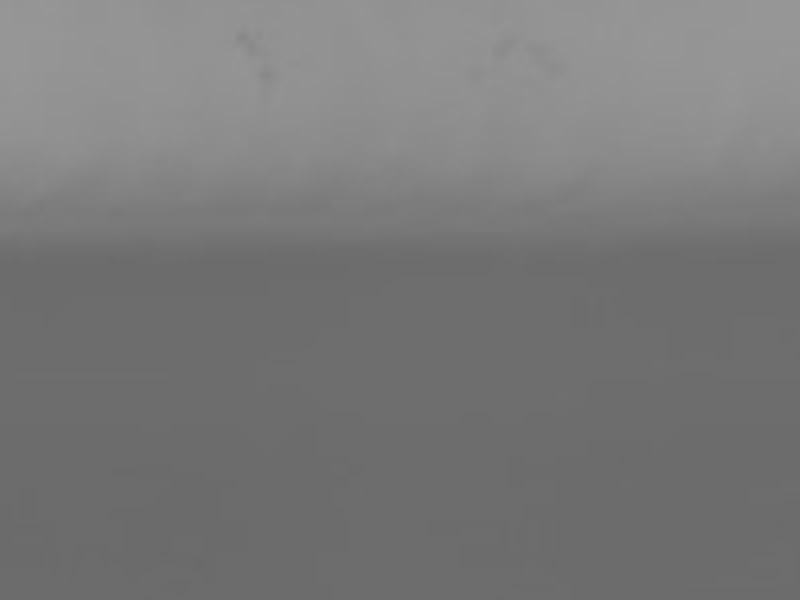defect: (255, 67, 279, 98), (489, 34, 521, 57), (239, 32, 268, 57)
